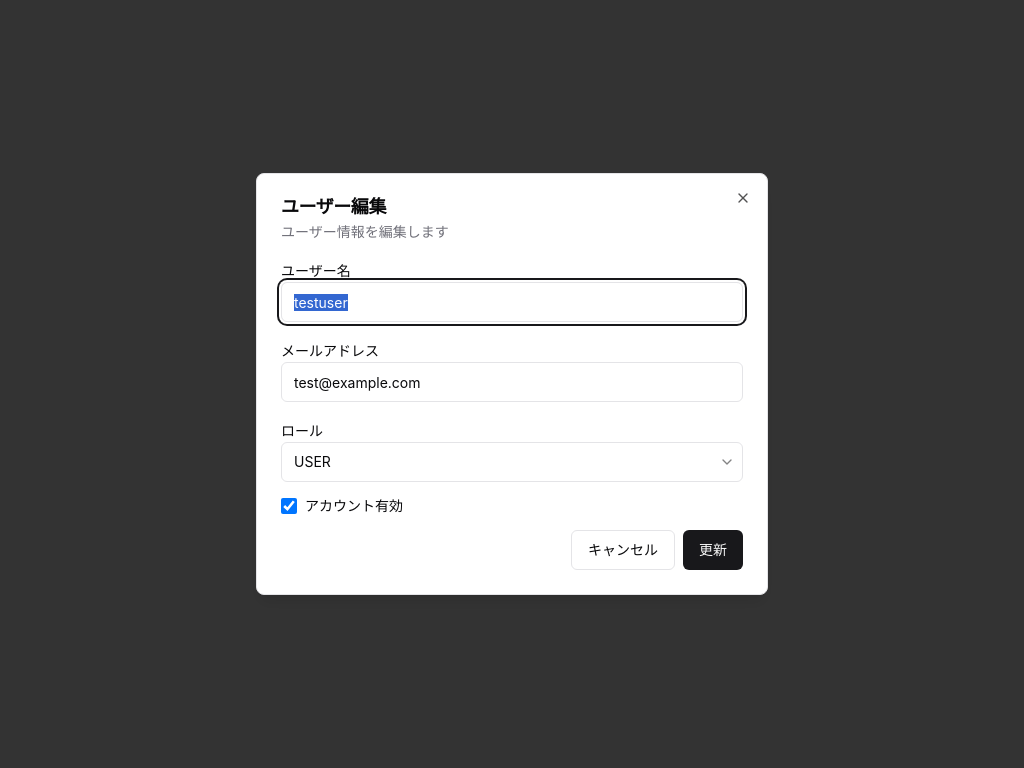
Test: UserFormDialog: 編集モード › email バリデーションエラーを表示する
Replace the text in the field showing "test@example.com" with "bad-email" at (512, 382), box [281,362,743,402]
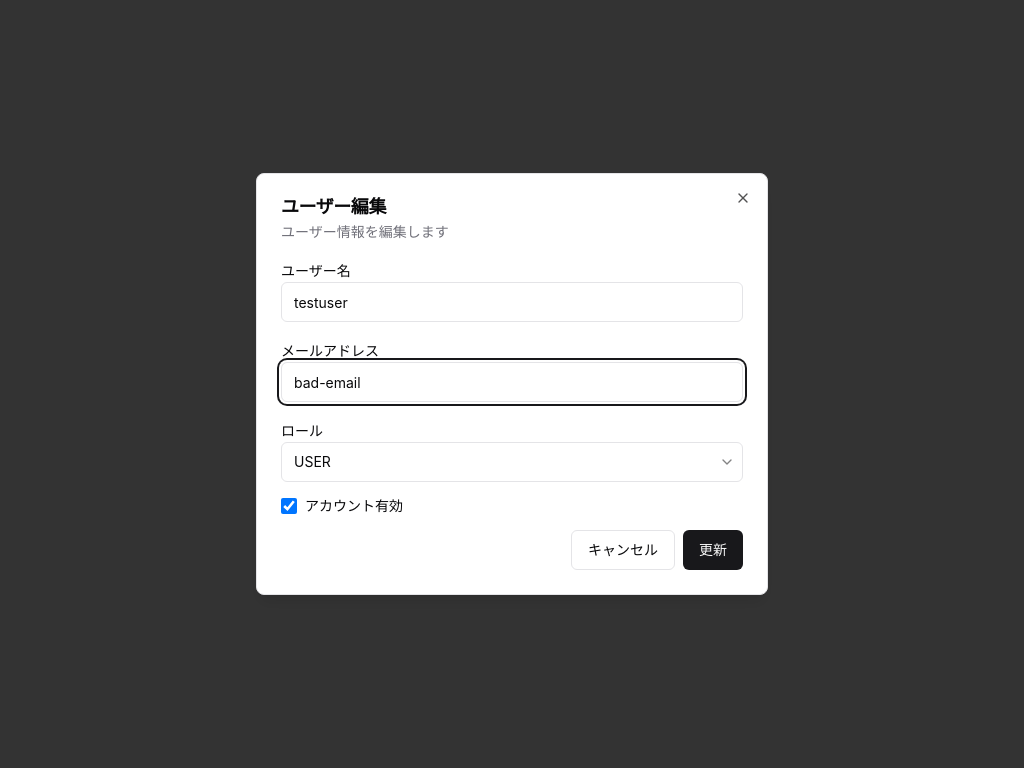
Submit the form "更新", box [281,258,743,570]
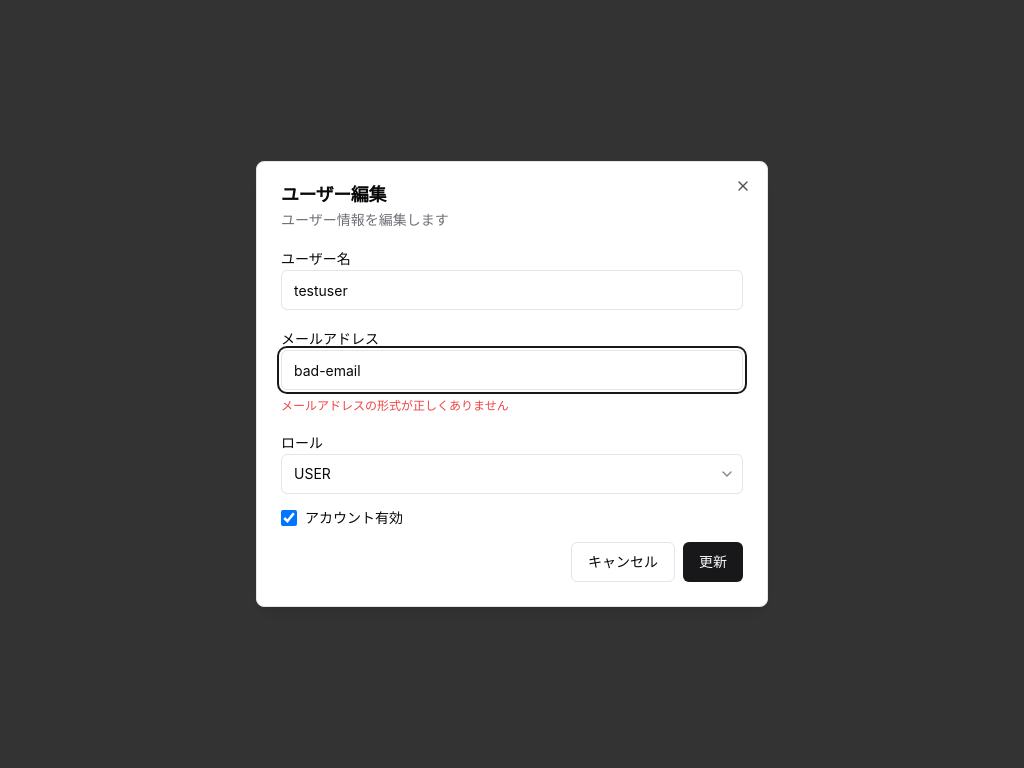
Check: the text "メールアドレスの形式が正しくありません" is shown, box [281,398,509,413]
